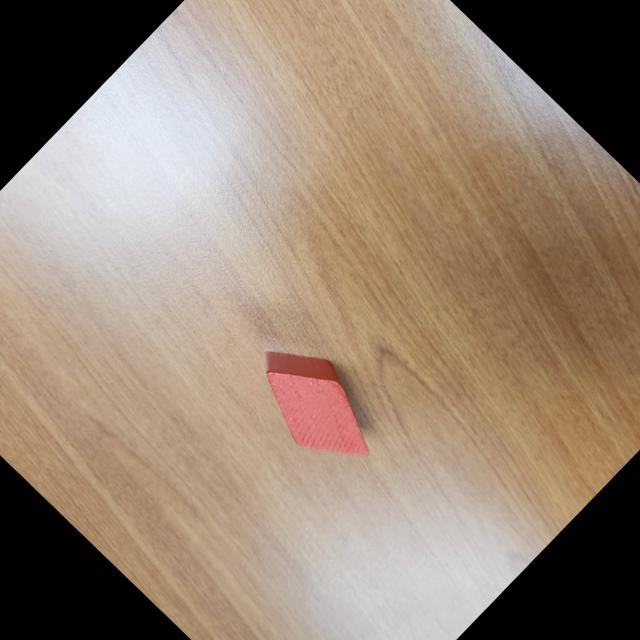red: (233, 325, 399, 489)
